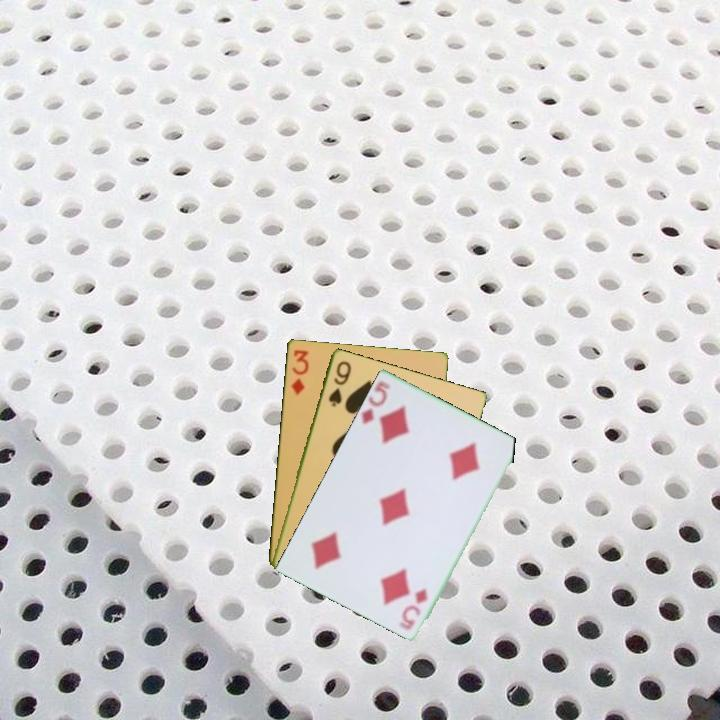3d: (287, 346, 311, 398)
5d: (358, 377, 393, 426), (400, 584, 431, 633)
9s: (325, 357, 354, 409)
